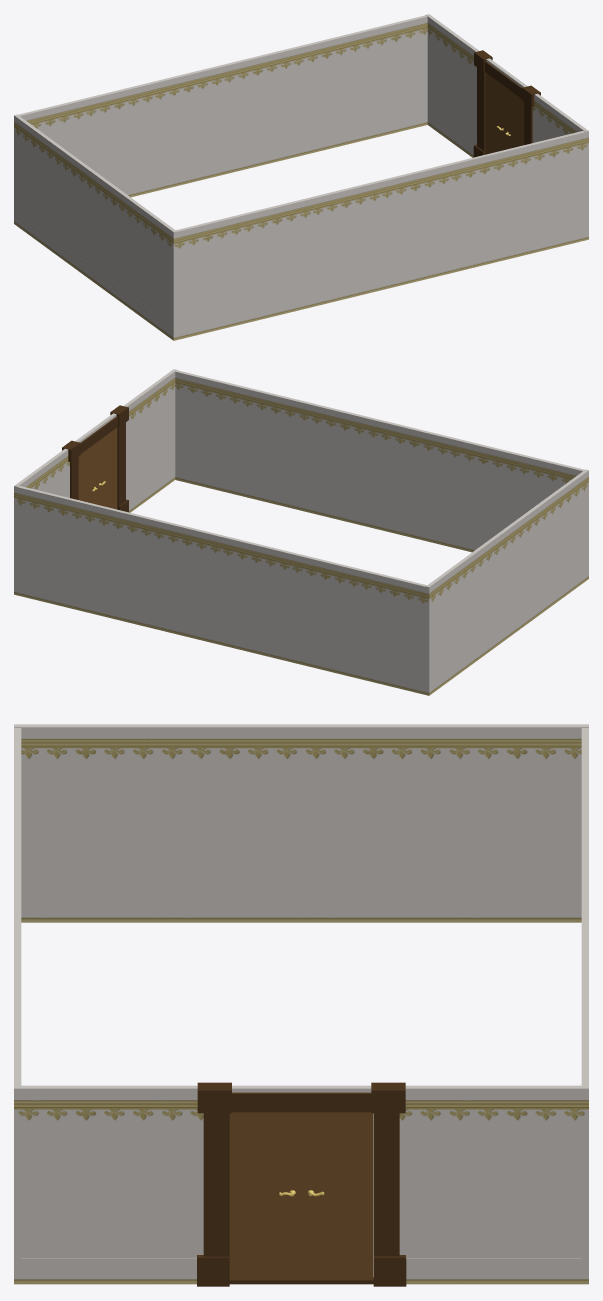
File: Geo_Room6x4_1Door_01.fbx
3 views of the same model, one above another, from view 1: azimuth 30°, elevation 25°; view 2: azimuth 150°, elevation 25°; view 3: azimuth 270°, elevation 25° (orthographic). The views are drawn at different scales.
Visible parts, largest first — view 1: geo_wallTopx6_01 (×2), geo_wallTopx4_02, geo_wallCulledx6_01 (×2), geo_wallTopx4_01, geo_wallCulledx4_02, geo_door_R, geo_door_L, geo_doorFrameSide_05, geo_wallCulledx4_01, geo_doorFrameTop_01; view 2: geo_wallTopx6_01 (×2), geo_wallTopx4_02, geo_wallCulledx6_01 (×2), geo_wallTopx4_01, geo_wallCulledx4_02, geo_door_L, geo_door_R, geo_wallCulledx4_01, geo_doorFrameSide_01, geo_doorFrameTop_01; view 3: geo_wallTopx4_02, geo_wallTopx4_01, geo_wallCulledx4_02, geo_door_L, geo_door_R, geo_wallCulledx4_01, geo_wallTopx6_01 (×2), geo_doorFrameSide_01, geo_doorFrameSide_05, geo_doorFrameTop_01, geo_doorFrameSide_07, geo_doorFrameSide_03 (+3 smaller).
Boxes of the visible parts, left/top/right/bottom form: geo_wallTopx6_01 (×2): left=14, top=15, right=588, bottom=326; geo_wallTopx4_02: left=14, top=114, right=177, bottom=325; geo_wallCulledx6_01 (×2): left=14, top=111, right=588, bottom=340; geo_wallTopx4_01: left=426, top=14, right=588, bottom=144; geo_wallCulledx4_02: left=16, top=211, right=173, bottom=340; geo_door_R: left=485, top=73, right=505, bottom=154; geo_door_L: left=505, top=87, right=524, bottom=149; geo_doorFrameSide_05: left=477, top=67, right=485, bottom=151; geo_wallCulledx4_01: left=427, top=111, right=474, bottom=157; geo_doorFrameTop_01: left=484, top=61, right=522, bottom=98; geo_wallTopx6_01 (×2): left=17, top=370, right=584, bottom=681; geo_wallTopx4_02: left=425, top=469, right=588, bottom=679; geo_wallCulledx6_01 (×2): left=17, top=465, right=486, bottom=695; geo_wallTopx4_01: left=14, top=369, right=176, bottom=580; geo_wallCulledx4_02: left=431, top=565, right=588, bottom=693; geo_door_L: left=97, top=428, right=117, bottom=509; geo_door_R: left=78, top=442, right=97, bottom=504; geo_wallCulledx4_01: left=14, top=466, right=175, bottom=595; geo_doorFrameSide_01: left=117, top=422, right=125, bottom=506; geo_doorFrameTop_01: left=80, top=416, right=117, bottom=453; geo_wallTopx4_02: left=14, top=724, right=588, bottom=896; geo_wallTopx4_01: left=14, top=1085, right=588, bottom=1257; geo_wallCulledx4_02: left=21, top=896, right=581, bottom=922; geo_door_L: left=229, top=1112, right=301, bottom=1280; geo_door_R: left=301, top=1112, right=373, bottom=1280; geo_wallCulledx4_01: left=14, top=1258, right=588, bottom=1284; geo_wallTopx6_01 (×2): left=14, top=728, right=588, bottom=1258; geo_doorFrameSide_01: left=203, top=1113, right=229, bottom=1256; geo_doorFrameSide_05: left=373, top=1113, right=399, bottom=1256; geo_doorFrameTop_01: left=232, top=1092, right=371, bottom=1112; geo_doorFrameSide_07: left=371, top=1082, right=405, bottom=1113; geo_doorFrameSide_03: left=197, top=1082, right=231, bottom=1113.
Size of the model in its own units: 604 by 151 by 400.
Materials: 5 (1 with a texture image).
